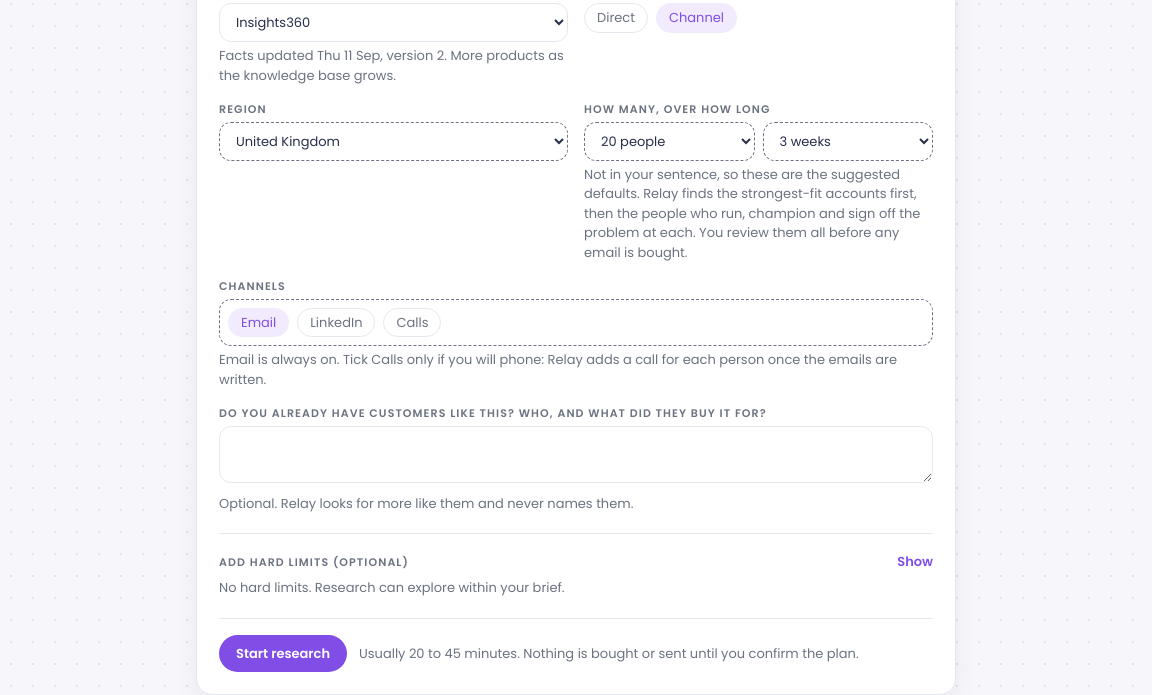
Hard limits › will not start on a size that runs backwards, and say why
(page scrolled)
Click the button "Add hard limits (optional) Show". click: (314,562)
box: [219, 550, 933, 574]
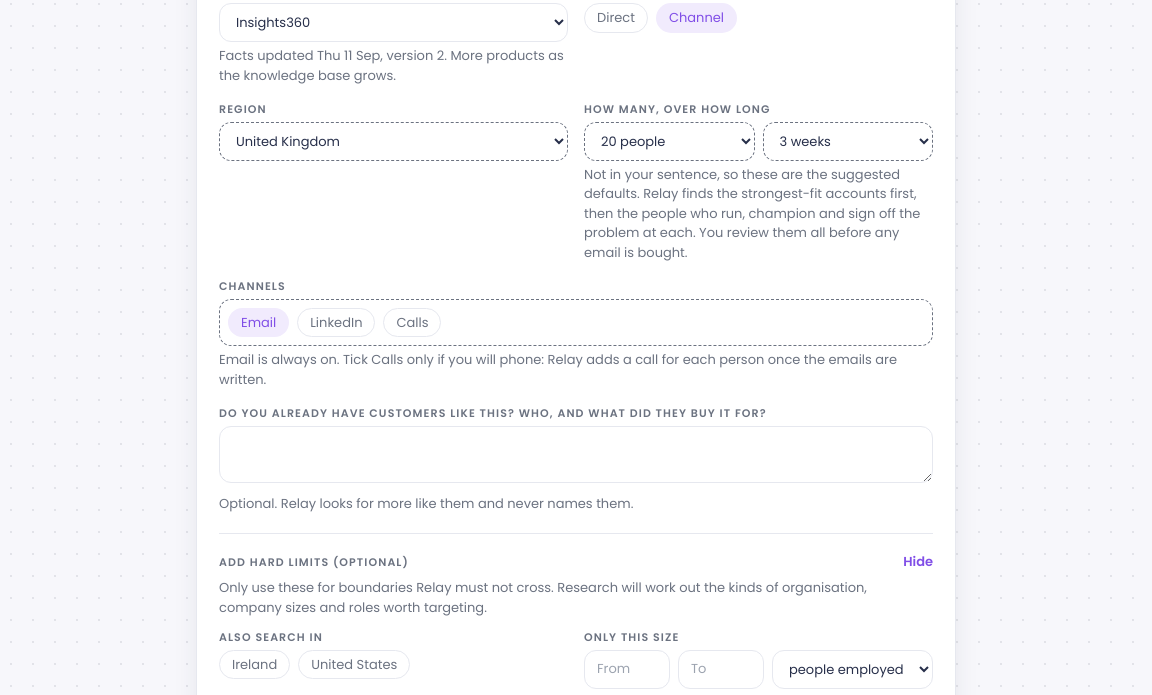
Type "50" into the field labelled "From". click: (627,669)
box: [584, 650, 670, 689]
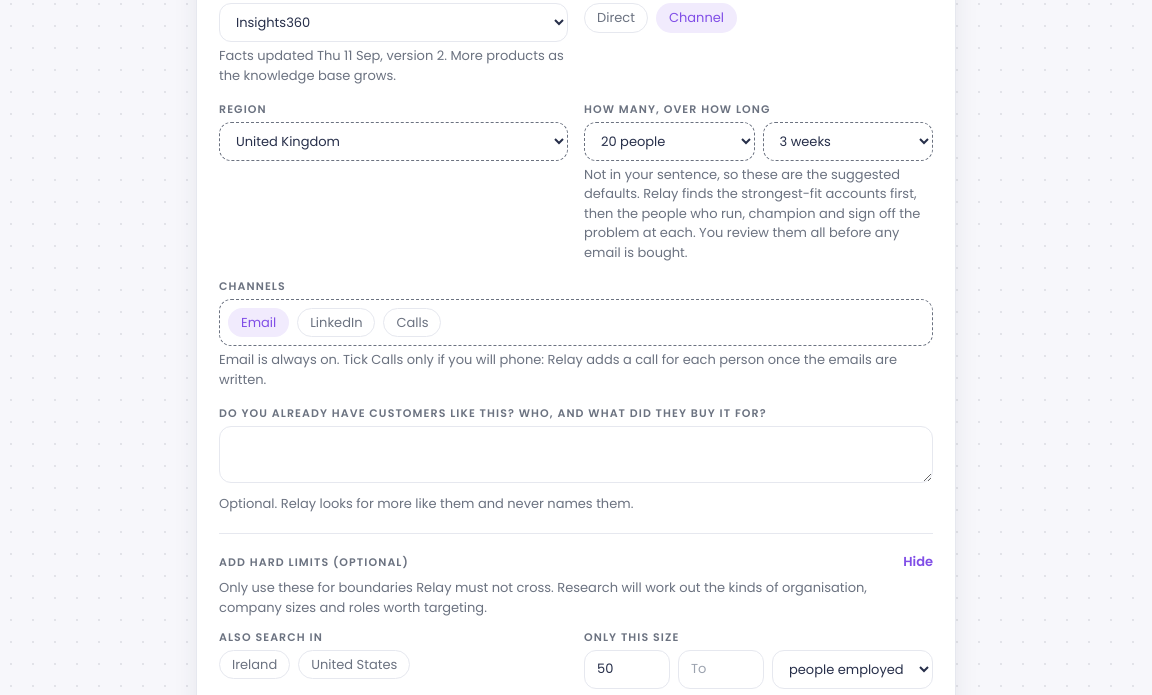
Type "5" into the field labelled "To". click: (721,669)
box: [678, 650, 764, 689]
(page scrolled)
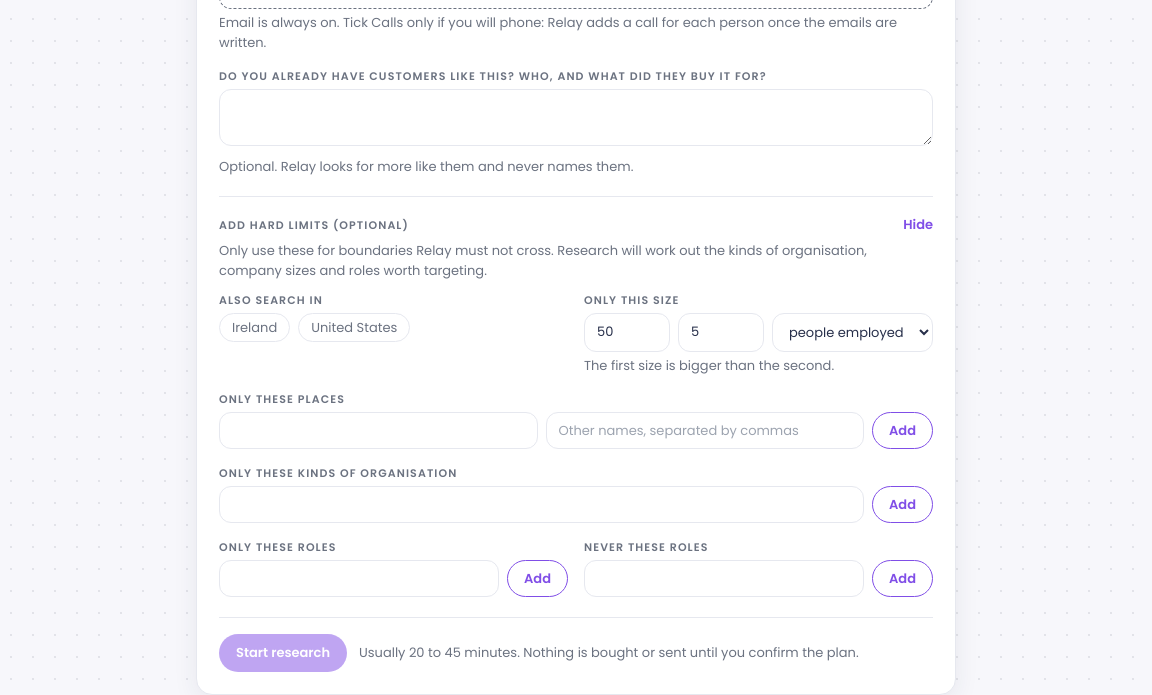
Now the text "The first size is bigger than the second." is shown, box [584, 356, 834, 375]
Now the button "Start research" is disabled, box [219, 634, 347, 672]
